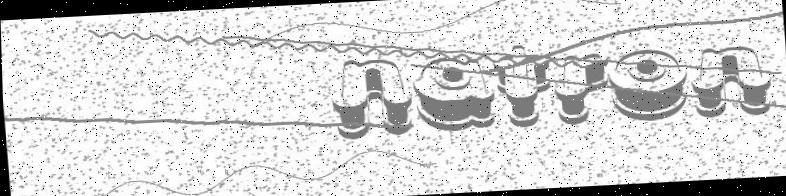a: (410, 55, 497, 133)
n: (327, 57, 414, 140), (688, 43, 773, 121)
o: (605, 47, 691, 123)
r: (551, 51, 609, 127)
t: (491, 43, 554, 130)
